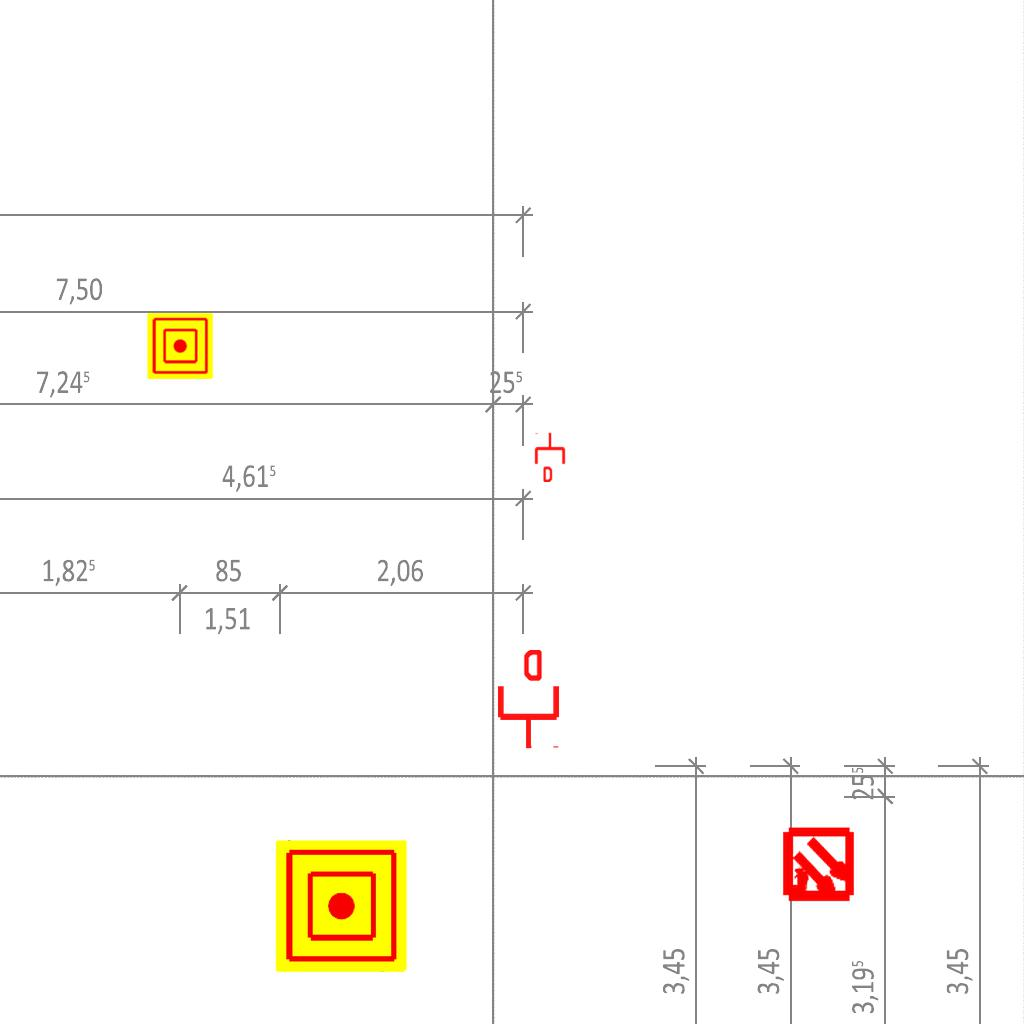Datenanschluss_einfach: (494, 650, 563, 750), (533, 432, 567, 482)
NAM-Nichtautomatischer_Melder: (275, 840, 407, 972), (147, 313, 213, 379)
OT_Multisensormelder_(Kombination_RMO_WMD): (762, 810, 875, 923)
